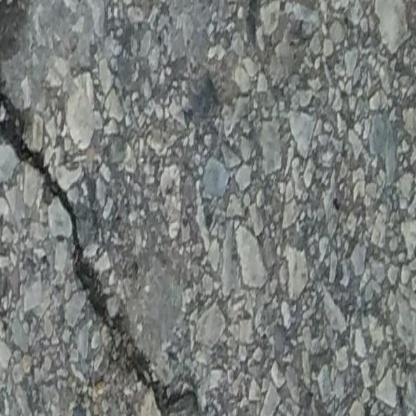Cracks: (0, 0, 206, 416)
